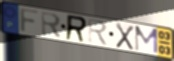F: (19, 7, 41, 35)
M: (134, 25, 159, 55)
R: (65, 14, 89, 44), (87, 18, 110, 48), (41, 11, 63, 40)
X: (115, 22, 136, 52)
